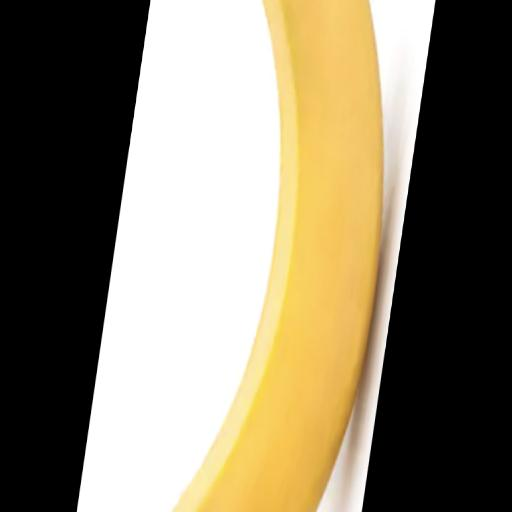banana-ripe: (149, 0, 407, 512)
